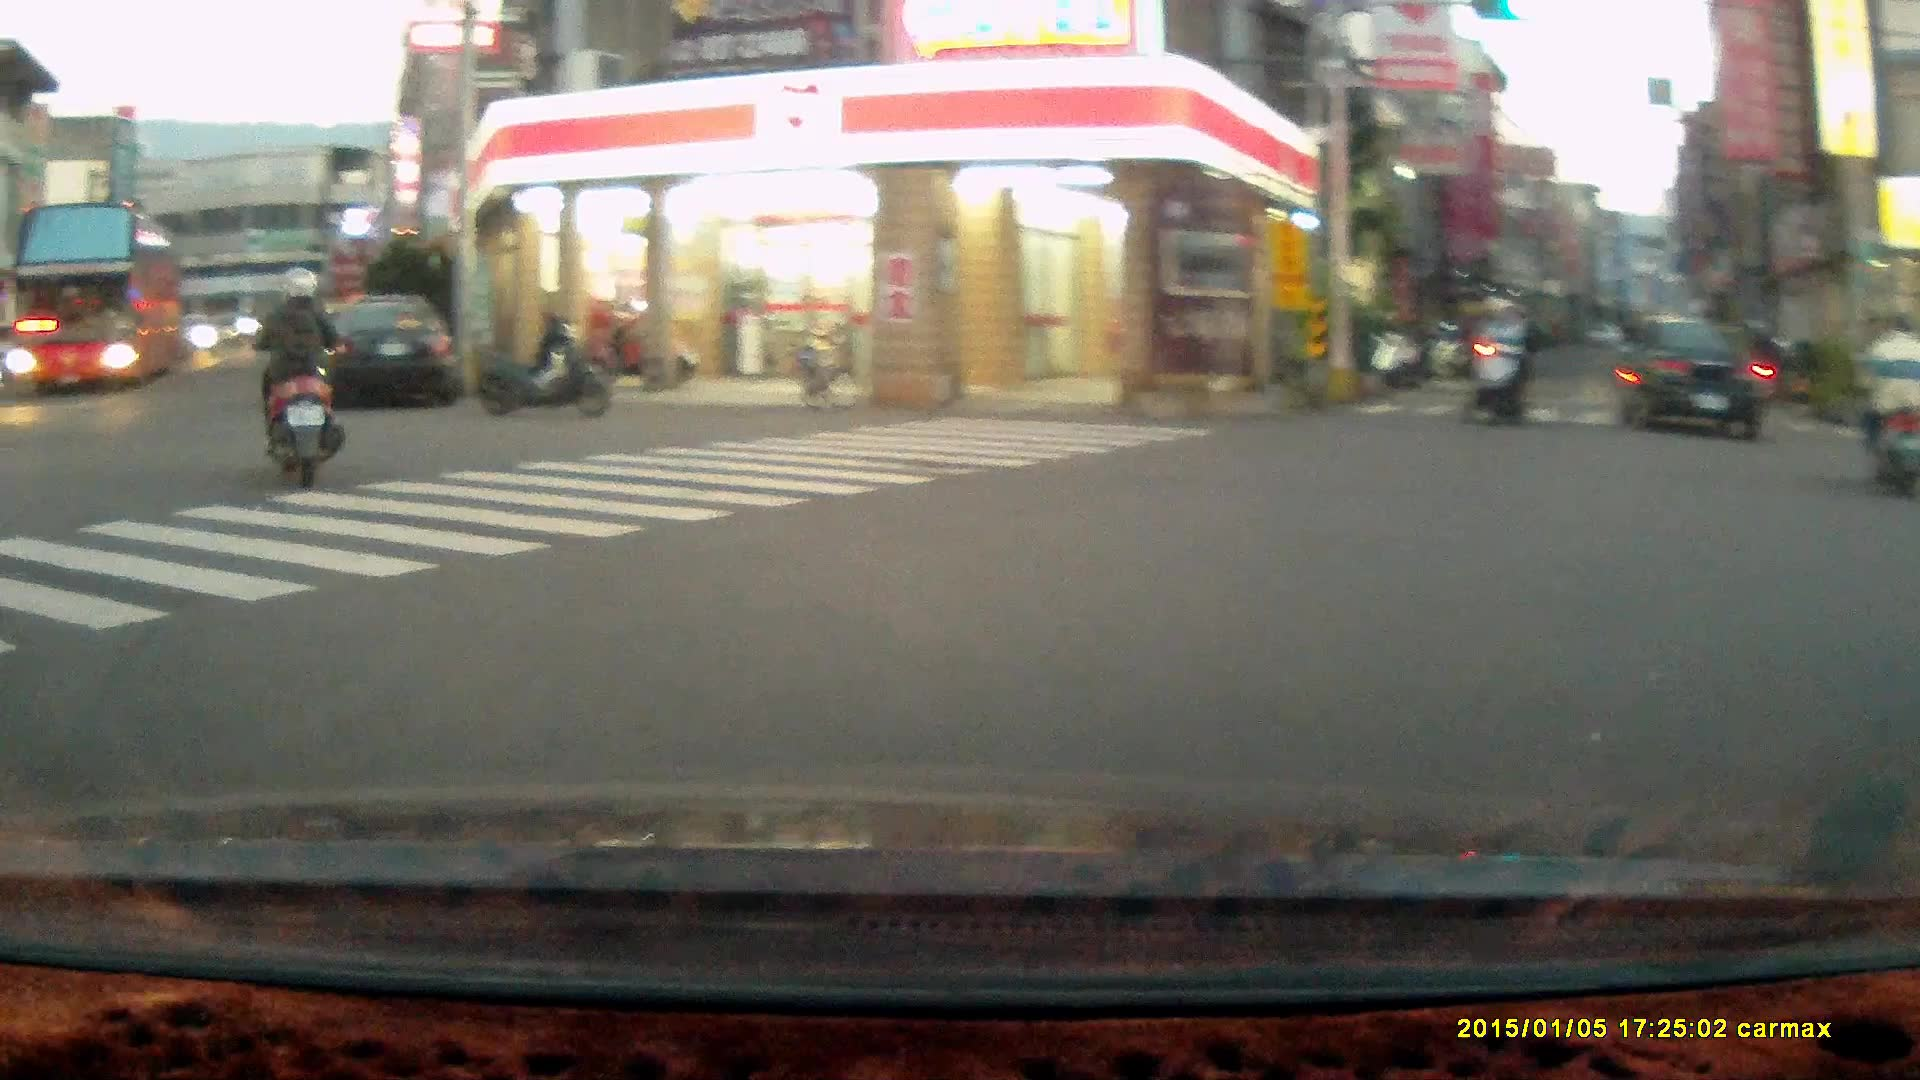rider: (254, 262, 346, 489), (1849, 308, 1915, 493), (1458, 294, 1528, 432)
vehicle: (6, 202, 180, 394), (1612, 314, 1774, 447), (320, 292, 463, 404)
